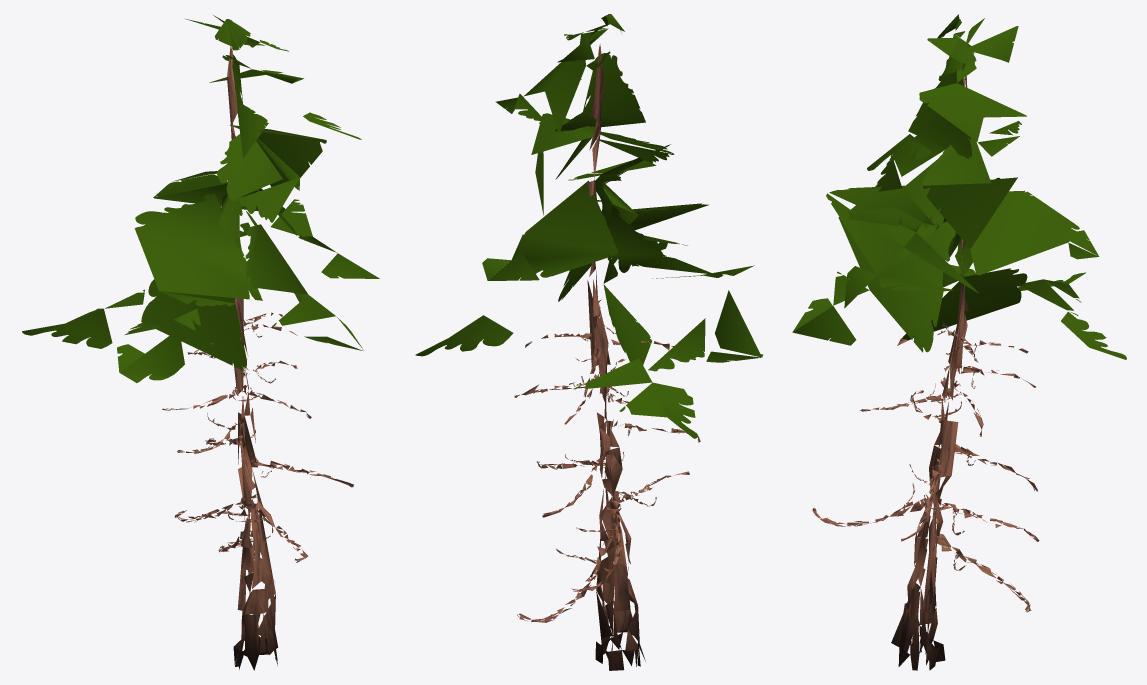
Rendered from Pine_3_lod1.glb.
3 renders of one model, left to right at view 1: azimuth 30°, elevation 25°; view 2: azimuth 150°, elevation 25°; view 3: azimuth 270°, elevation 25°, orthographic. The views are drawn at different scales.
Parts seen in each view (by area): view 1: Pine_3; view 2: Pine_3; view 3: Pine_3.
Part boxes in pixels (x1,y1,x2,y2): Pine_3: (22, 15, 379, 670); Pine_3: (415, 14, 763, 670); Pine_3: (792, 14, 1126, 670).
Bounding box in the file's own units: 3.09 × 7.34 × 3.52.
Materials: 2 (2 with a texture image).
